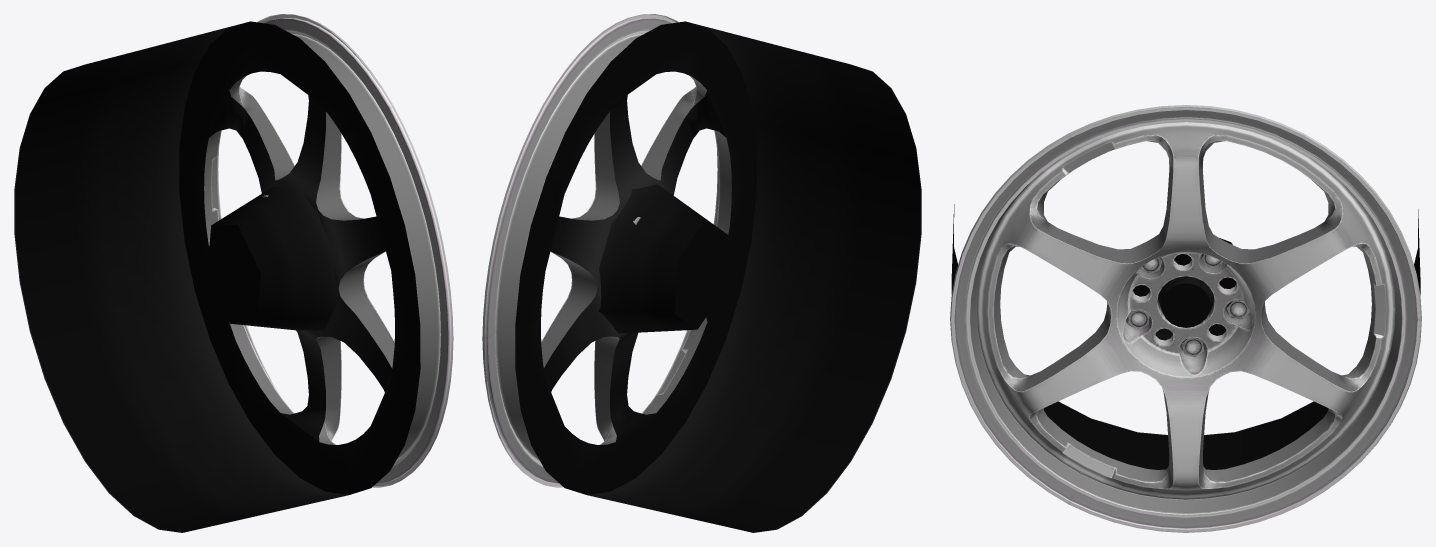
File: wheel2.fbx
3 renders of one model, left to right at view 1: azimuth 30°, elevation 25°; view 2: azimuth 150°, elevation 25°; view 3: azimuth 270°, elevation 25°, orthographic. The views are drawn at different scales.
Parts seen in each view (by area): view 1: 5zi_gn_wheel_wheel_inner_rim_, wheel_rim, 5zi_gn_wheel_wheel_rim_; view 2: 5zi_gn_wheel_wheel_inner_rim_, wheel_rim, 5zi_gn_wheel_wheel_rim_; view 3: 5zi_gn_wheel_wheel_rim_, wheel_rim, 5zi_gn_wheel_wheel_inner_rim_.
Part boxes in pixels (bbox=[...]): 5zi_gn_wheel_wheel_inner_rim_: bbox=[14, 21, 420, 532]; wheel_rim: bbox=[212, 14, 453, 487]; 5zi_gn_wheel_wheel_rim_: bbox=[204, 25, 451, 447]; 5zi_gn_wheel_wheel_inner_rim_: bbox=[515, 21, 921, 532]; wheel_rim: bbox=[482, 14, 718, 487]; 5zi_gn_wheel_wheel_rim_: bbox=[510, 14, 731, 444]; 5zi_gn_wheel_wheel_rim_: bbox=[976, 105, 1395, 532]; wheel_rim: bbox=[950, 105, 1421, 532]; 5zi_gn_wheel_wheel_inner_rim_: bbox=[951, 204, 1420, 469].
Size of the model in its own units: 0.2295 by 0.4803 by 0.4805.
1 material, 1 textured.
